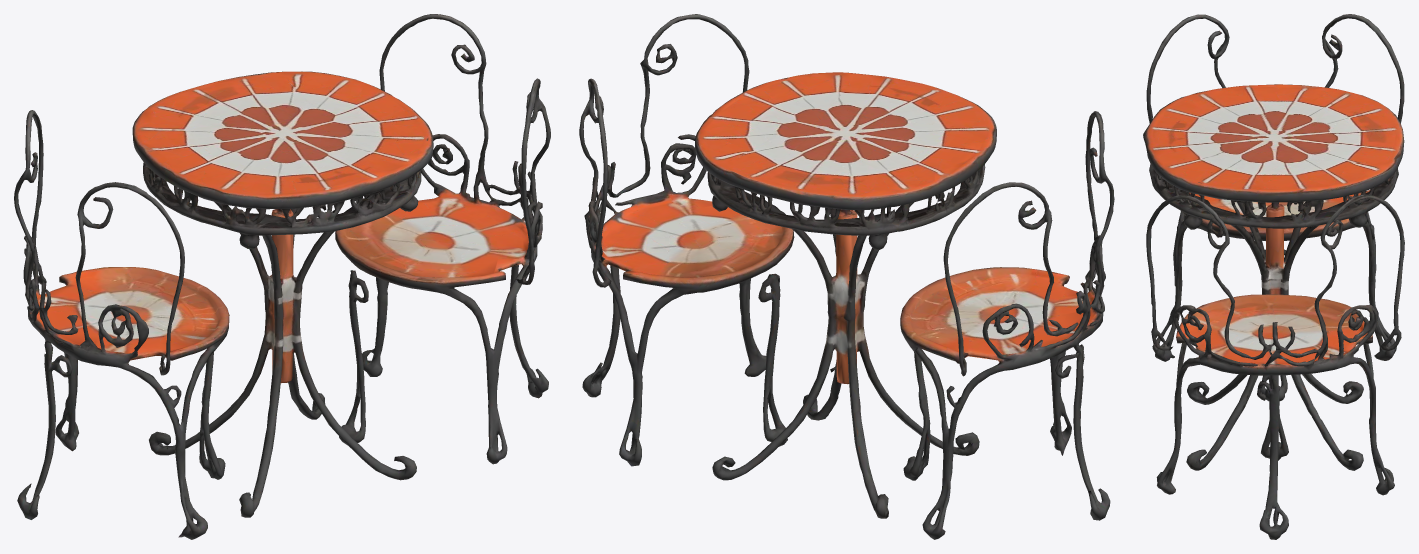
File: courtyard-bistro-set.glb
The picture shows the model from 3 angles, left to right: view 1: azimuth 30°, elevation 25°; view 2: azimuth 150°, elevation 25°; view 3: azimuth 270°, elevation 25°; orthographic projection. The views are drawn at different scales.
Size of the model in its own units: 2 by 1.36 by 0.9774.
1 material, 1 textured.
